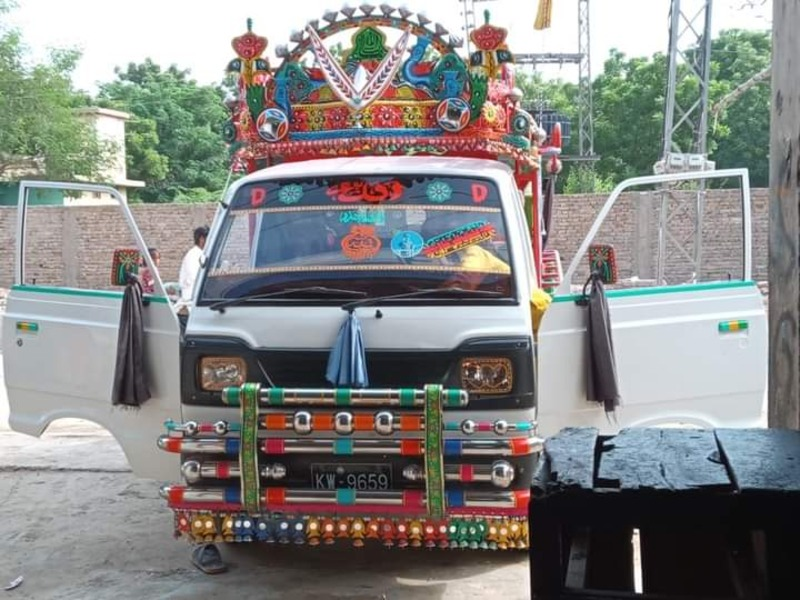License Plate: (307, 458, 394, 500)
